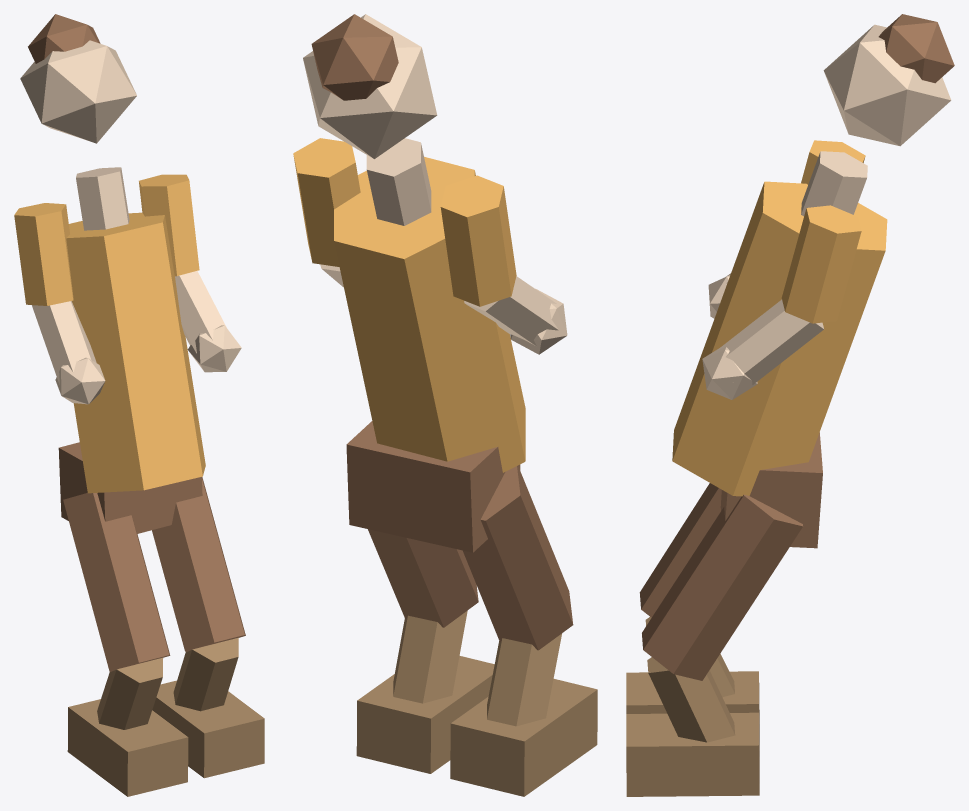
The model's file is pose_hit_light_07.glb.
3 renders of one model, left to right at view 1: azimuth 30°, elevation 25°; view 2: azimuth 150°, elevation 25°; view 3: azimuth 270°, elevation 25°, orthographic. The views are drawn at different scales.
Parts seen in each view (by area): view 1: pose; view 2: pose; view 3: pose.
Part boxes in pixels (x1,y1,x2,y2): pose: [14, 14, 264, 796]; pose: [293, 14, 597, 796]; pose: [626, 14, 954, 796].
Bounding box in the file's own units: 0.4053 × 1.47 × 0.5937.
